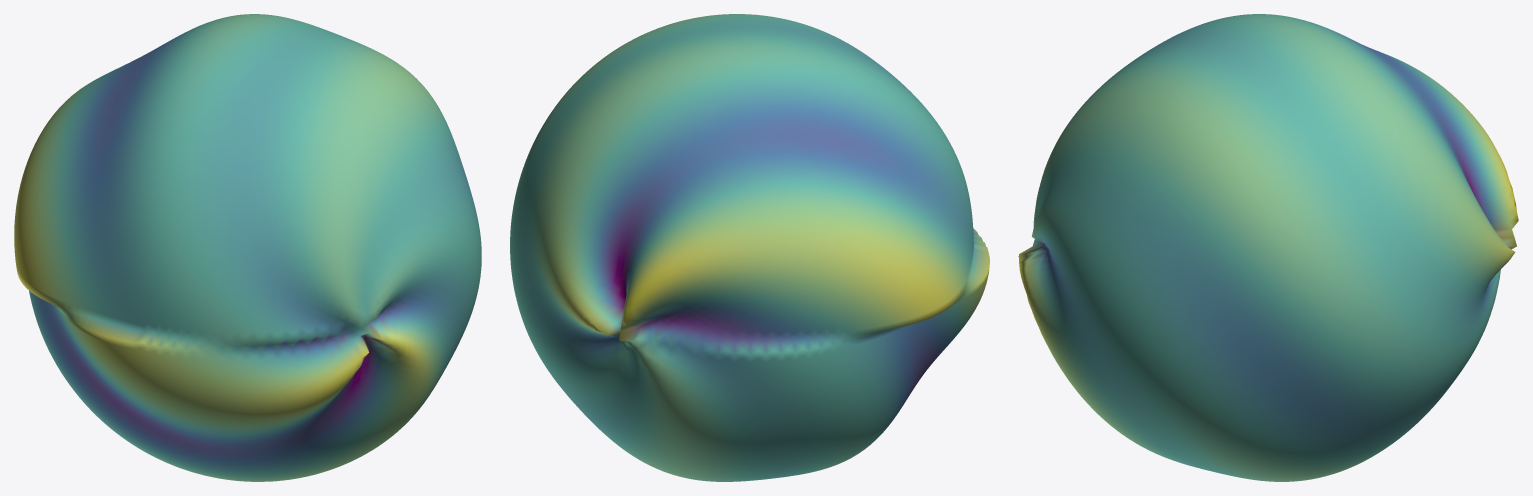
Rendered from sphere_frame_0005.glb.
3 renders of one model, left to right at view 1: azimuth 30°, elevation 25°; view 2: azimuth 150°, elevation 25°; view 3: azimuth 270°, elevation 25°, orthographic.
Parts seen in each view (by area): view 1: world; view 2: world; view 3: world.
Boxes of the visible parts, x1=… form: world: x1=14, y1=14, x2=481, y2=481; world: x1=510, y1=14, x2=989, y2=481; world: x1=1018, y1=14, x2=1518, y2=481.
Bounding box in the file's own units: 2.2 × 2.16 × 2.32.
